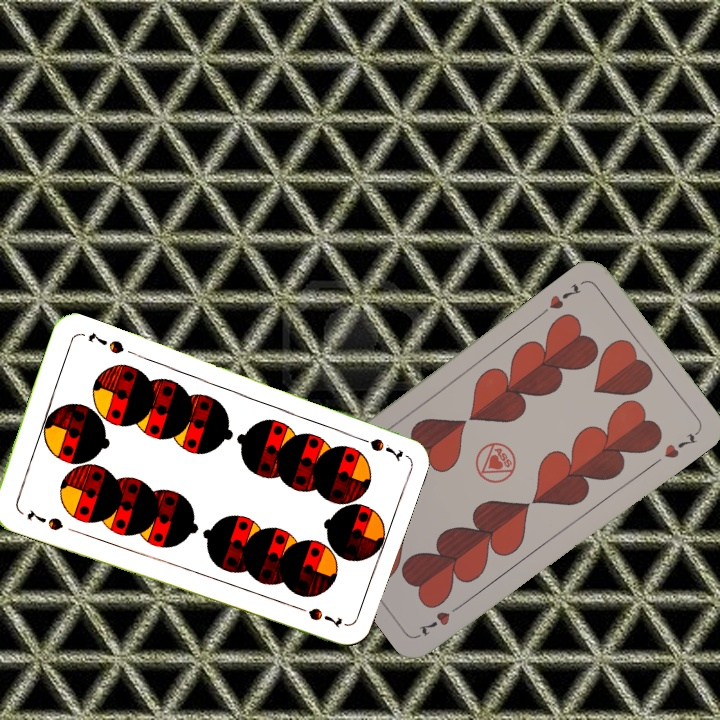H7: (414, 599, 466, 639), (537, 279, 584, 318)
S7: (348, 431, 406, 461), (22, 505, 66, 533)
